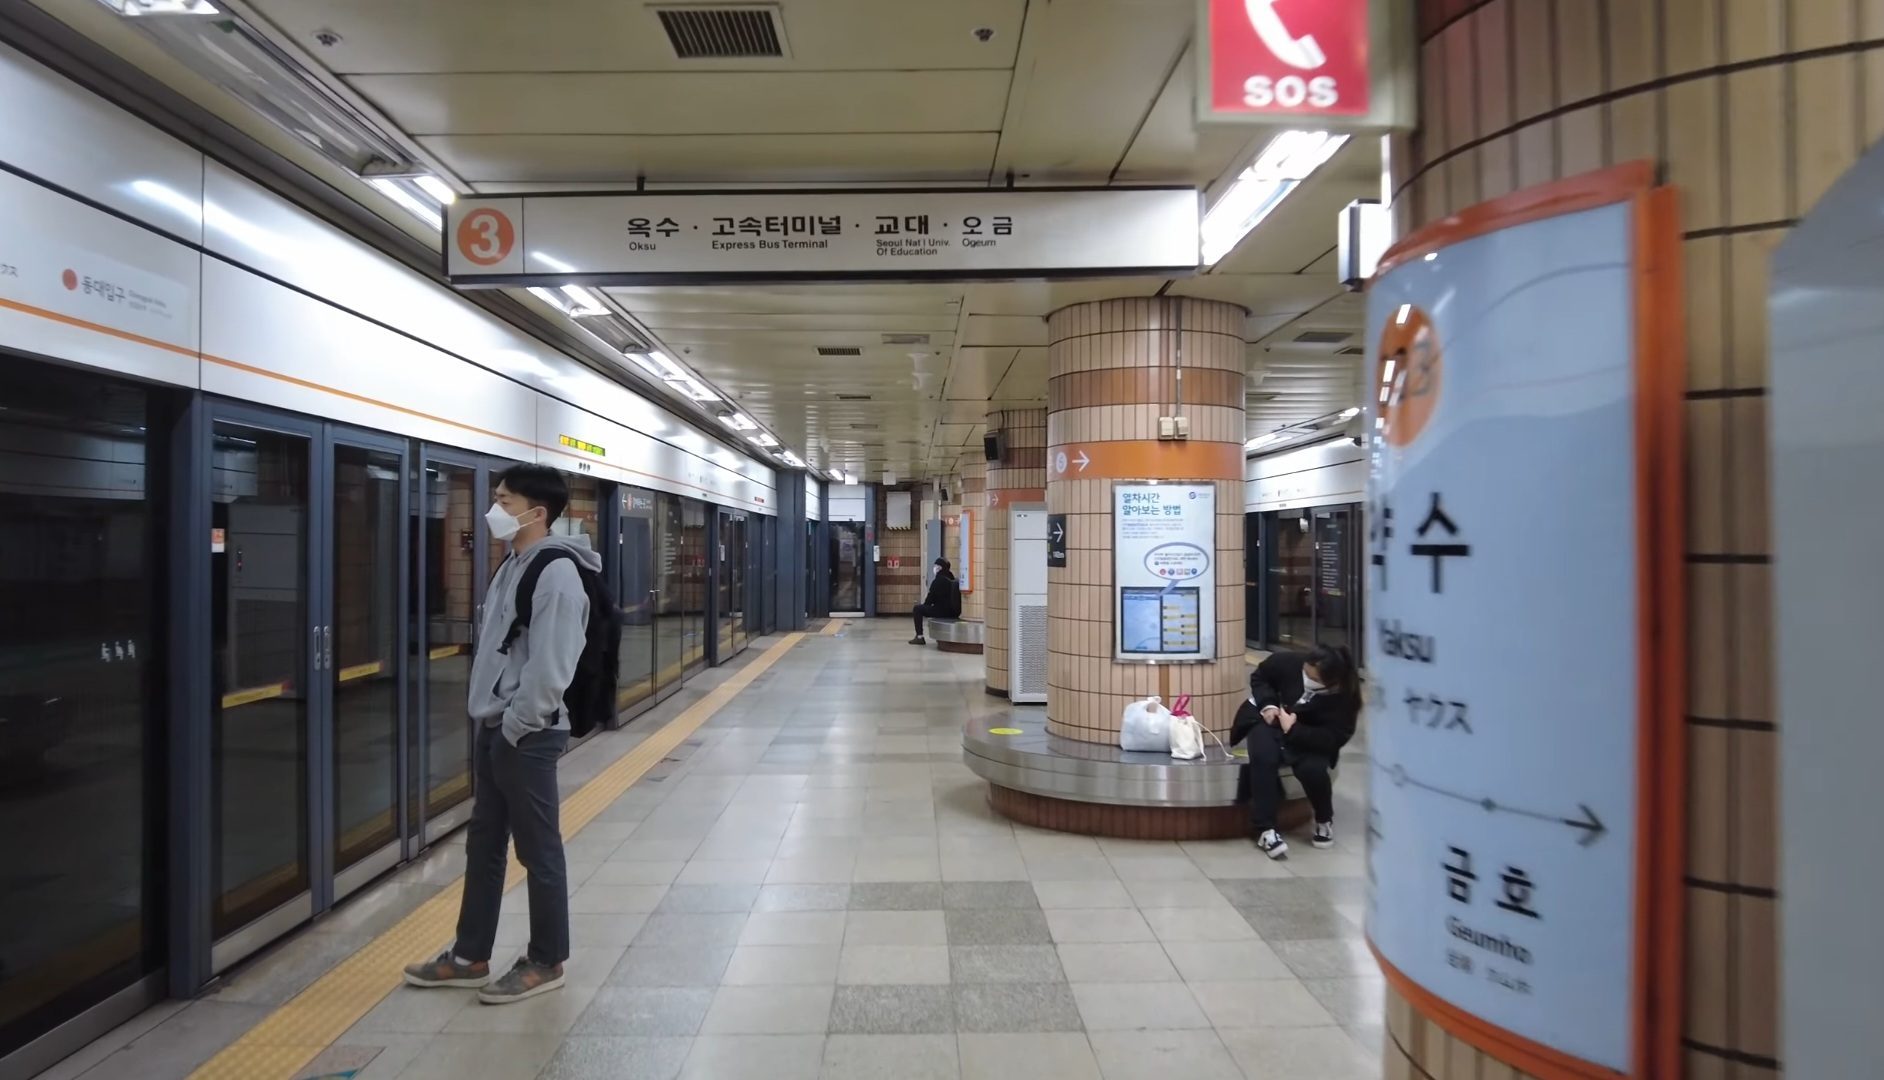signBoard: (432, 178, 1216, 288)
